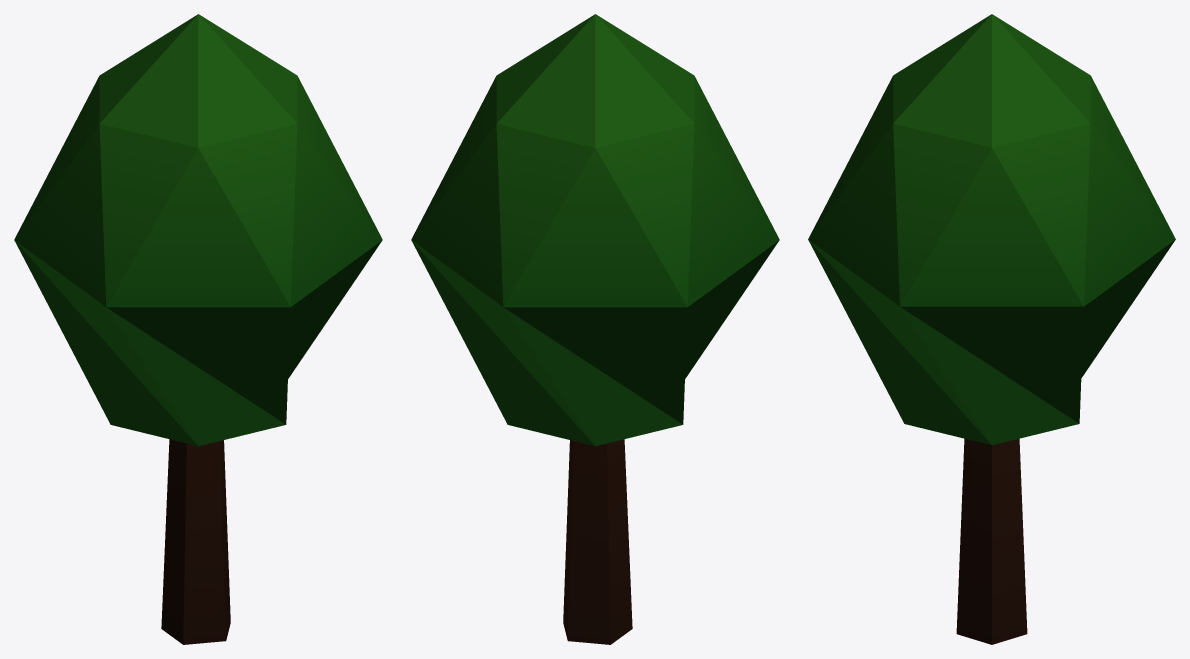
File: tree_broadleaf.glb
The picture shows the model from 3 angles, left to right: view 1: azimuth 30°, elevation 25°; view 2: azimuth 150°, elevation 25°; view 3: azimuth 270°, elevation 25°; orthographic projection.
Visible parts, largest first — view 1: tree_broadleaf2; view 2: tree_broadleaf2; view 3: tree_broadleaf2.
Part boxes in pixels (x1,y1,x2,y2): tree_broadleaf2: (14, 14, 382, 644); tree_broadleaf2: (411, 14, 779, 644); tree_broadleaf2: (808, 14, 1175, 644).
Bounding box in the file's own units: 0.7275 × 1.55 × 0.84.
